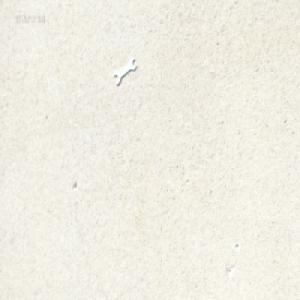Wrench: (114, 59, 136, 87)
